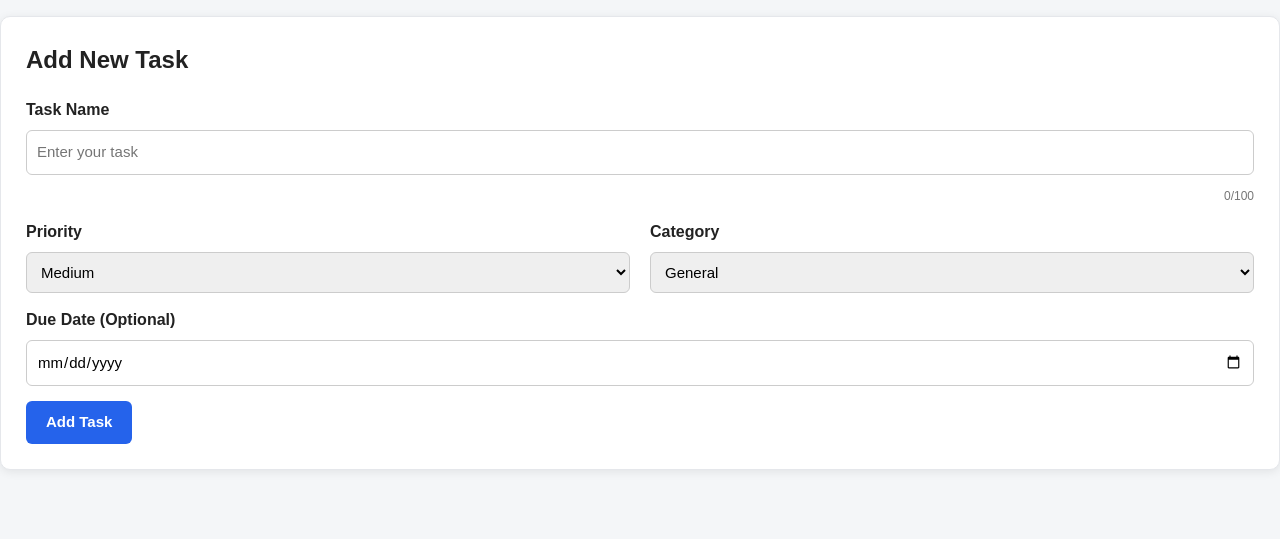
it: TaskForm Component › should reject a duplicate task
Type "learn react" into the field with placeholder "Enter your task".
click(640, 152); type("learn react")  # box [26,130,1254,174]
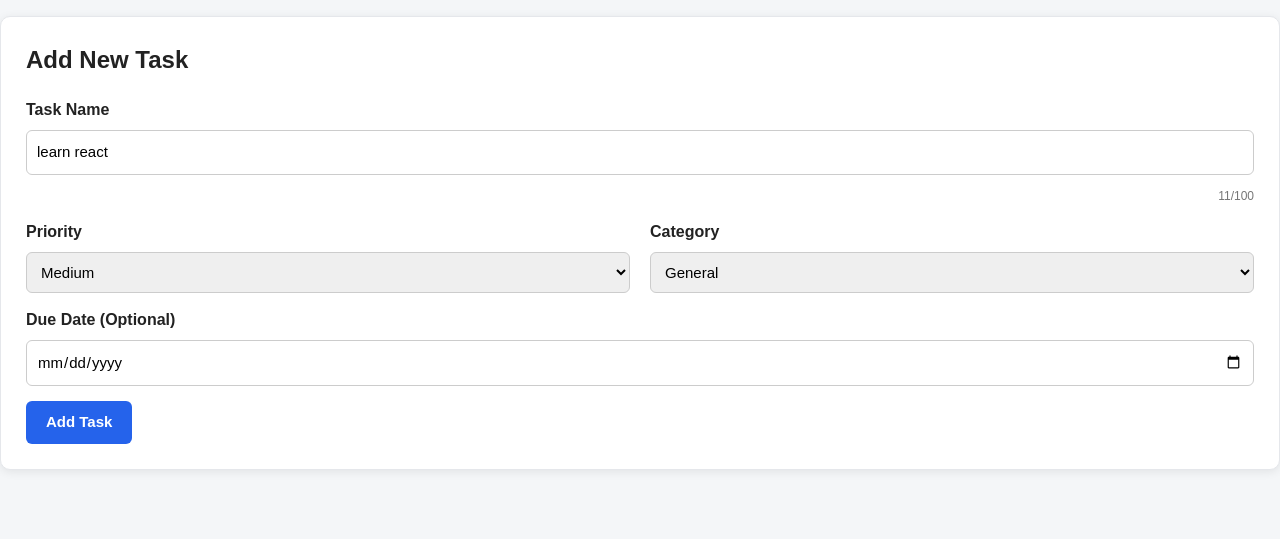
Click the button with test id "add-task-button".
click(79, 422)  # box [26,401,132,444]
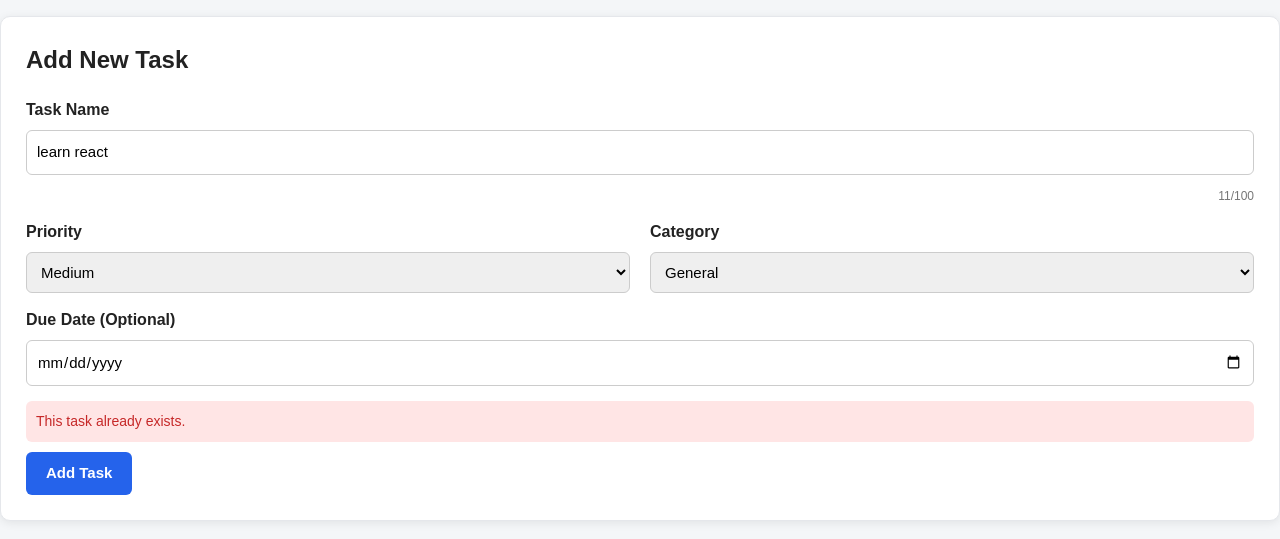
Now the text "This task already exists." is shown, box [26,401,1254,442]
